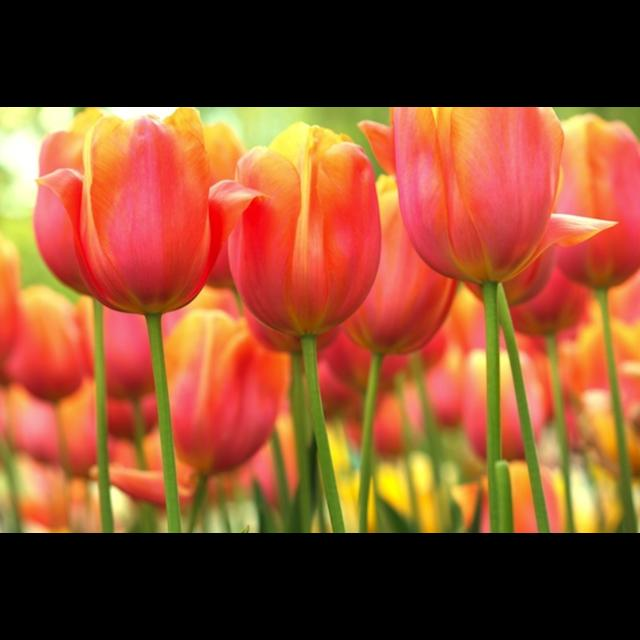Flower: (1, 108, 640, 532), (26, 108, 230, 318)
